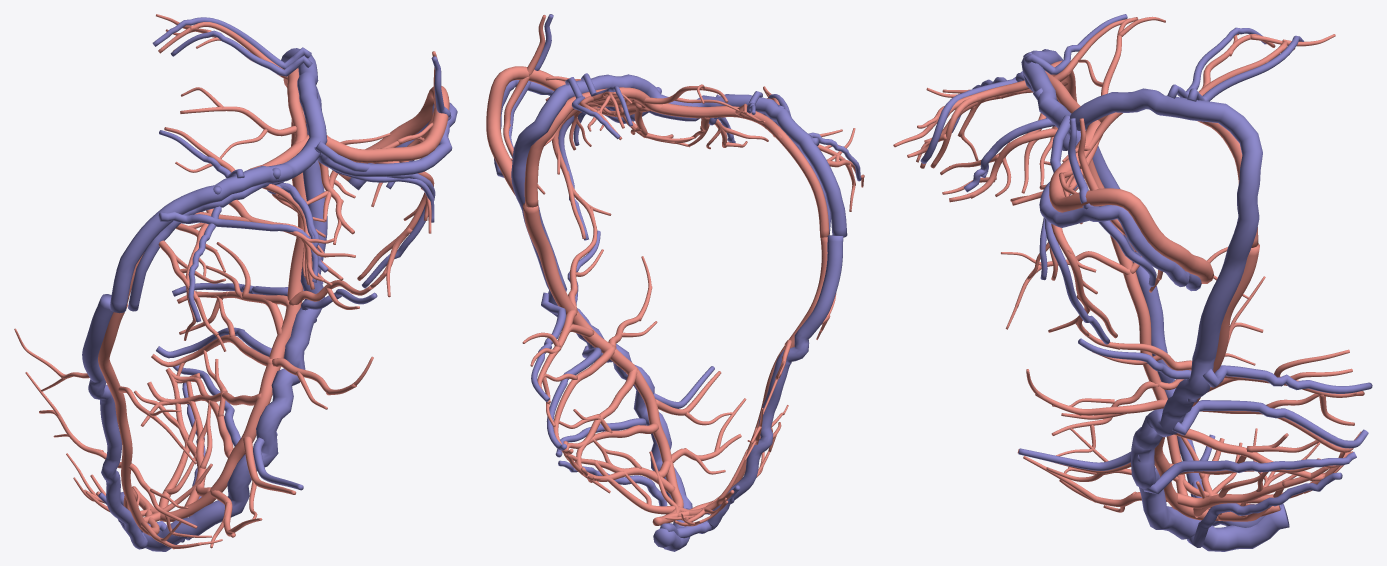
File: vessels_71.glb
The picture shows the model from 3 angles, left to right: view 1: azimuth 30°, elevation 25°; view 2: azimuth 150°, elevation 25°; view 3: azimuth 270°, elevation 25°; orthographic projection. The views are drawn at different scales.
Parts seen in each view (by area): view 1: Renderer Node; view 2: Renderer Node; view 3: Renderer Node.
Boxes of the visible parts, x1,y1,x2,y2 form: Renderer Node: (14, 14, 457, 551); Renderer Node: (486, 14, 864, 551); Renderer Node: (893, 14, 1372, 551).
Bounding box in the file's own units: 92.81 × 116 × 90.6.
